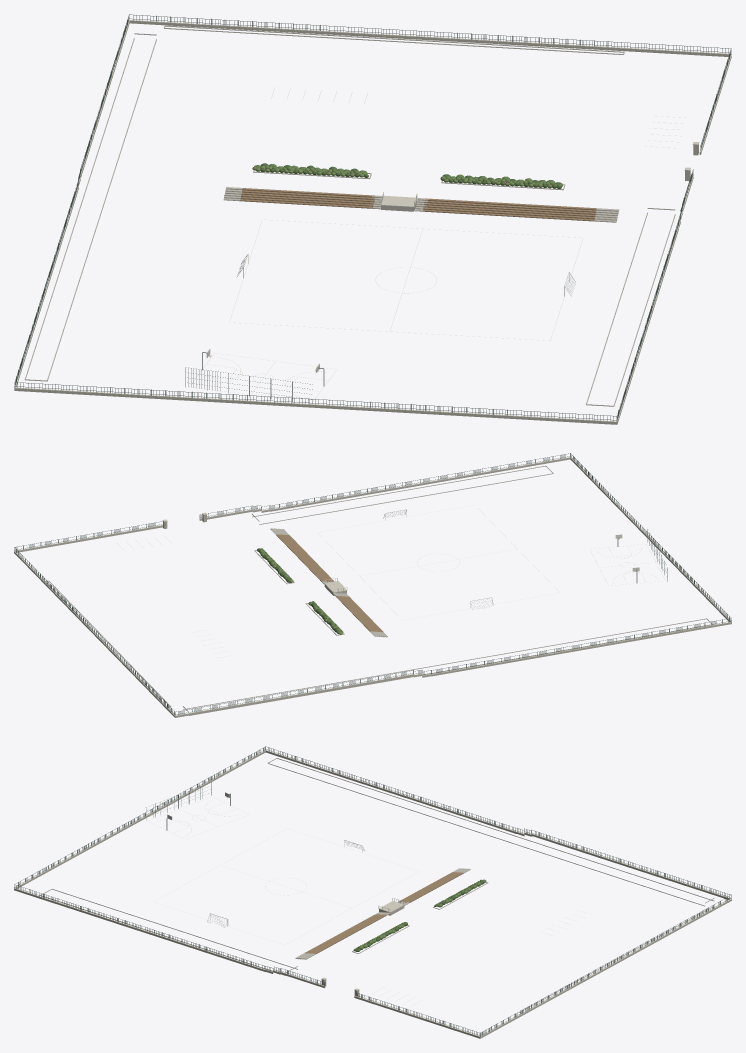
3 views of the same model, one above another, from view 1: azimuth 30°, elevation 25°; view 2: azimuth 150°, elevation 25°; view 3: azimuth 270°, elevation 25° (orthographic). The views are drawn at different scales.
Parts seen in each view (by area): view 1: prop_boundary-fence, prop_flowerbeds, prop_open-stand, prop_assembly-platform; view 2: prop_boundary-fence, prop_flowerbeds, prop_open-stand; view 3: prop_boundary-fence, prop_flowerbeds, prop_open-stand.
Part boxes in pixels (x1,y1,x2,y2): prop_boundary-fence: [14, 14, 731, 424]; prop_flowerbeds: [24, 25, 675, 406]; prop_open-stand: [240, 188, 596, 221]; prop_assembly-platform: [370, 192, 428, 211]; prop_boundary-fence: [14, 453, 731, 717]; prop_flowerbeds: [45, 465, 712, 715]; prop_open-stand: [276, 534, 383, 632]; prop_boundary-fence: [14, 746, 731, 1038]; prop_flowerbeds: [40, 758, 714, 1013]; prop_open-stand: [305, 872, 463, 953].
Size of the model in its own units: 181 by 4.01 by 190.
